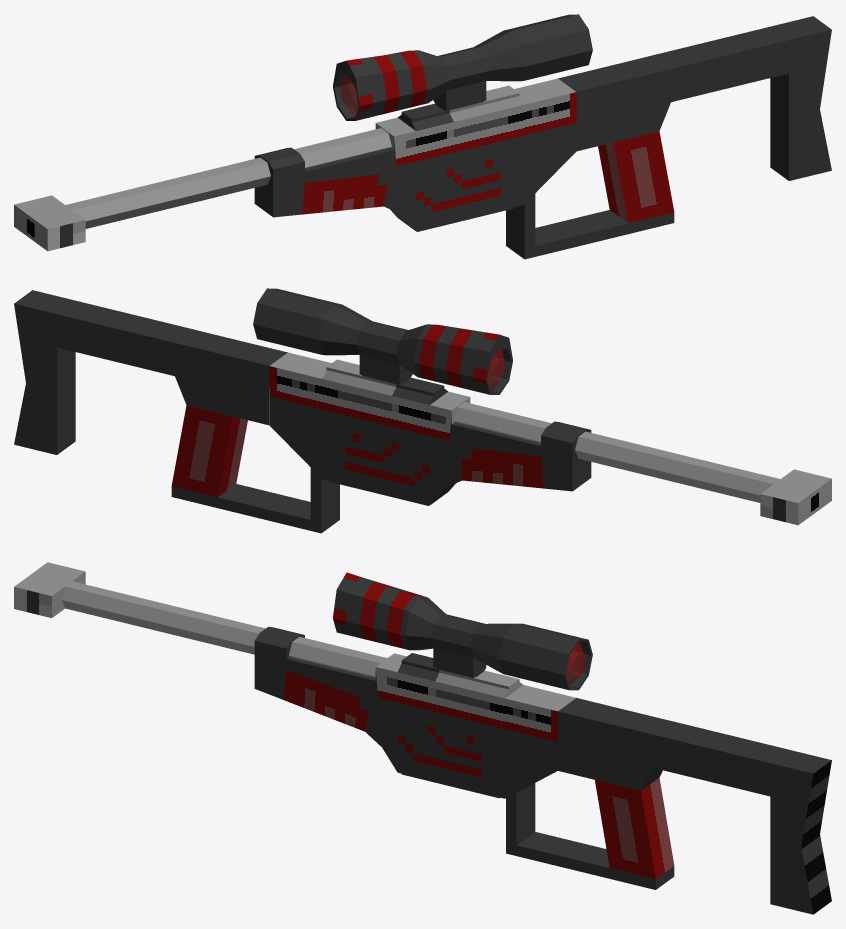
The model's file is Sniper.fbx.
3 views of the same model, one above another, from view 1: azimuth 30°, elevation 25°; view 2: azimuth 150°, elevation 25°; view 3: azimuth 330°, elevation 25° (orthographic).
Parts seen in each view (by area): view 1: Sniper; view 2: Sniper; view 3: Sniper.
Boxes of the visible parts, left/top/right/bottom form: Sniper: left=14, top=14, right=831, bottom=259; Sniper: left=14, top=288, right=831, bottom=533; Sniper: left=14, top=562, right=831, bottom=914.
Bounding box in the file's own units: 543 × 153 × 40.
